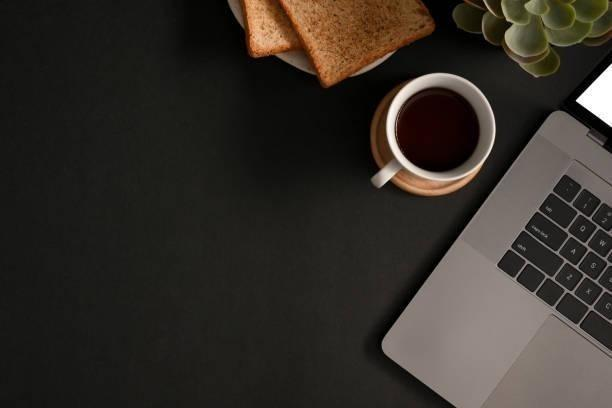cup-handle: (369, 71, 497, 193)
